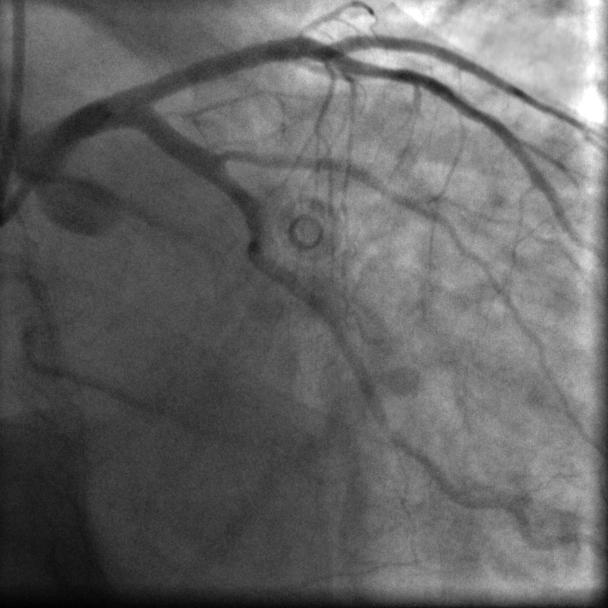Stenosis: (213, 141, 247, 170)
